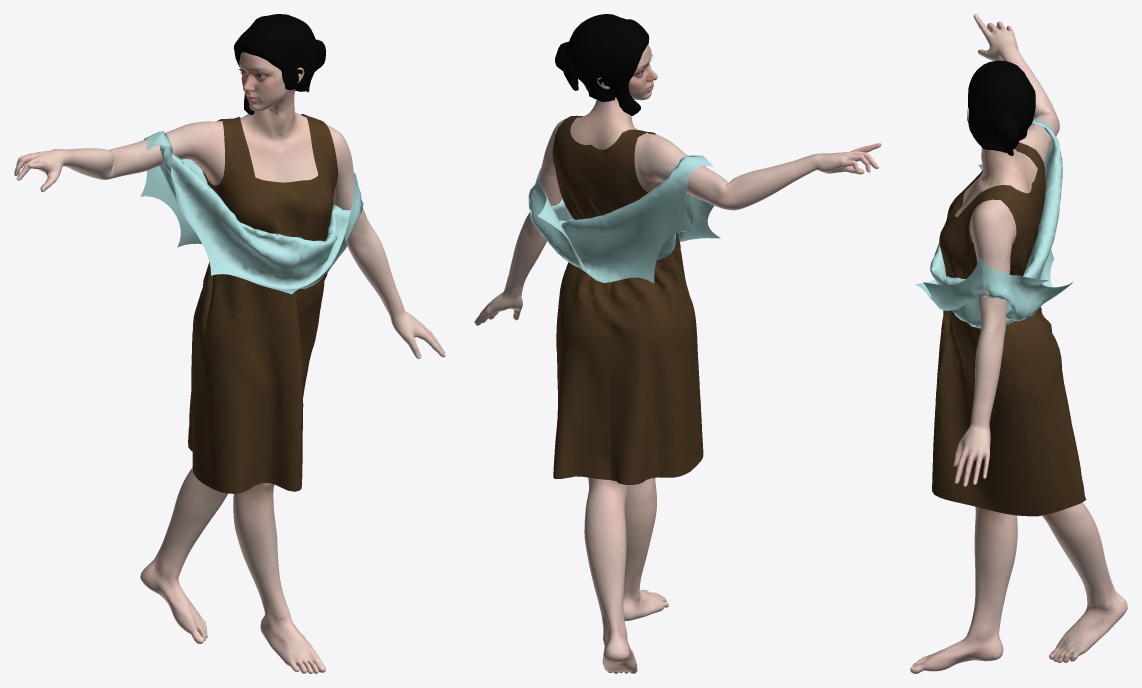
The model's file is random.obj.
3 views of the same model, side by side, from view 1: azimuth 30°, elevation 25°; view 2: azimuth 150°, elevation 25°; view 3: azimuth 270°, elevation 25° (orthographic). The views are drawn at different scales.
Bounding box in the file's own units: 1226 × 1775 × 569.
